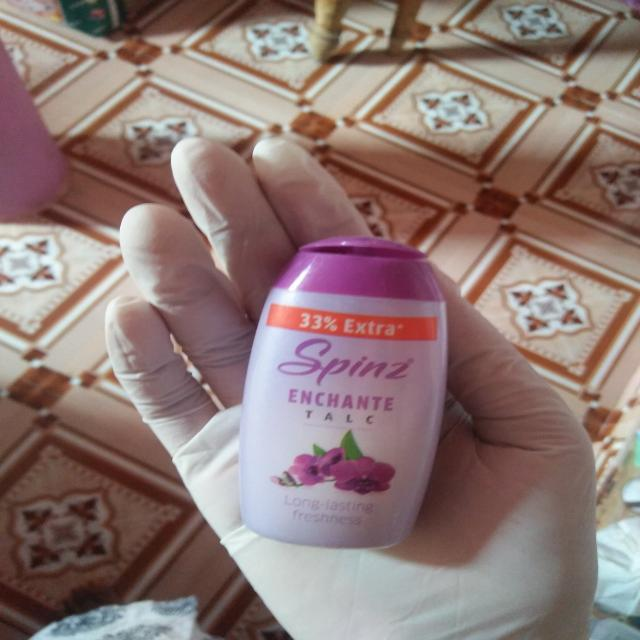glove_hand: (100, 124, 606, 635)
